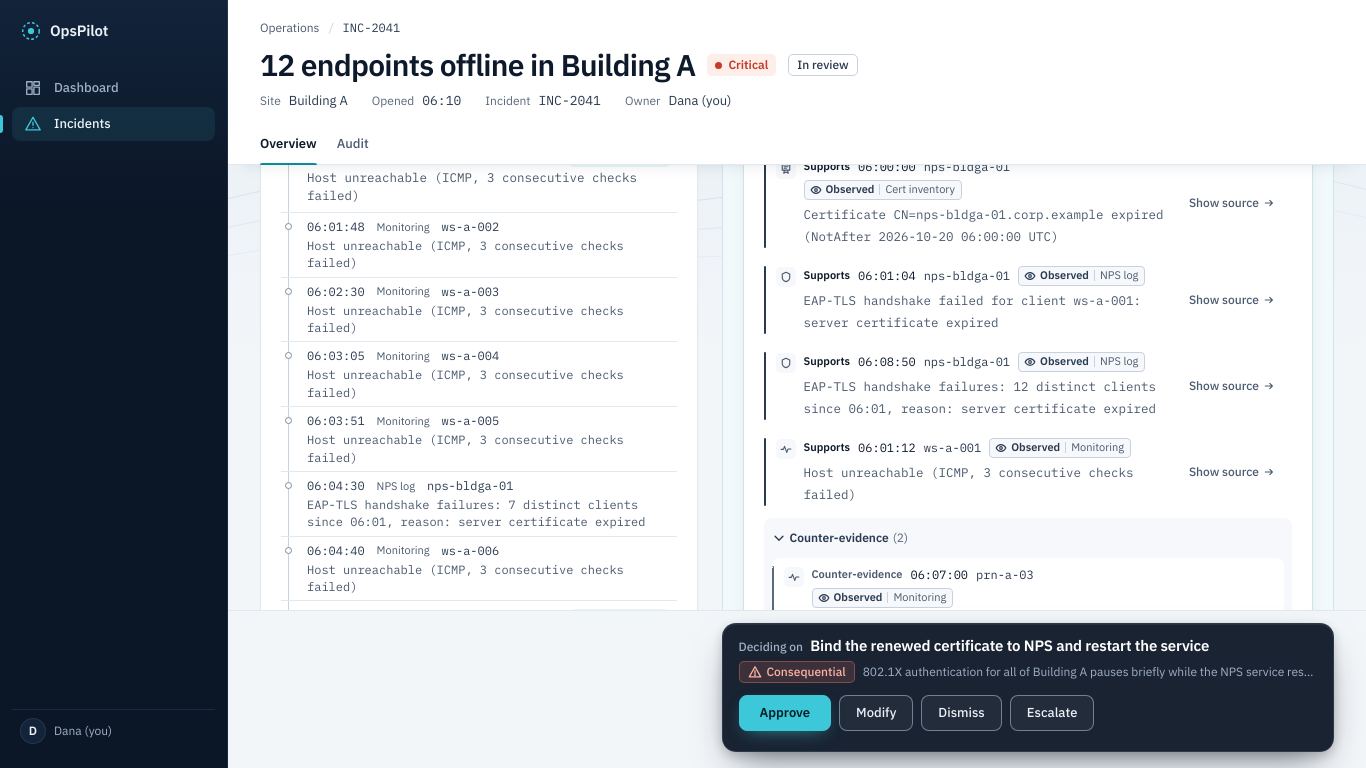
Test case: Incident Detail: trace › Show source moves focus to the event; Back to evidence returns it to the evidence item
The width and height of the screenshot is (1366, 768).
(page scrolled)
Click the button with aria-label "Show source: 06:08:50, nps-bldga-01". click: (1232, 386)
box: [1180,373,1284,399]
(page scrolled)
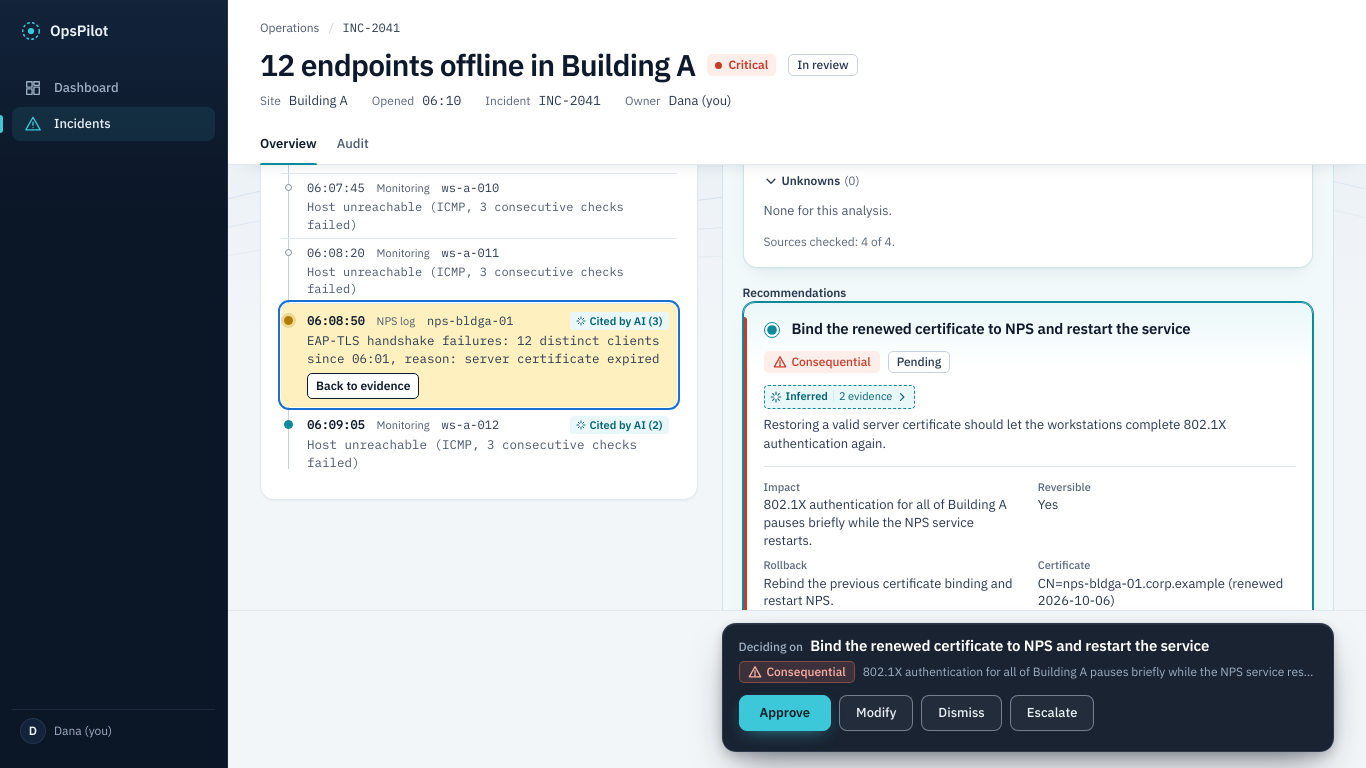
Expected: the list item that starts with "NPS log" has attribute data-active, [281,303,676,407]
Click the button "Back to evidence". click: (363, 386)
box: [307,372,419,398]
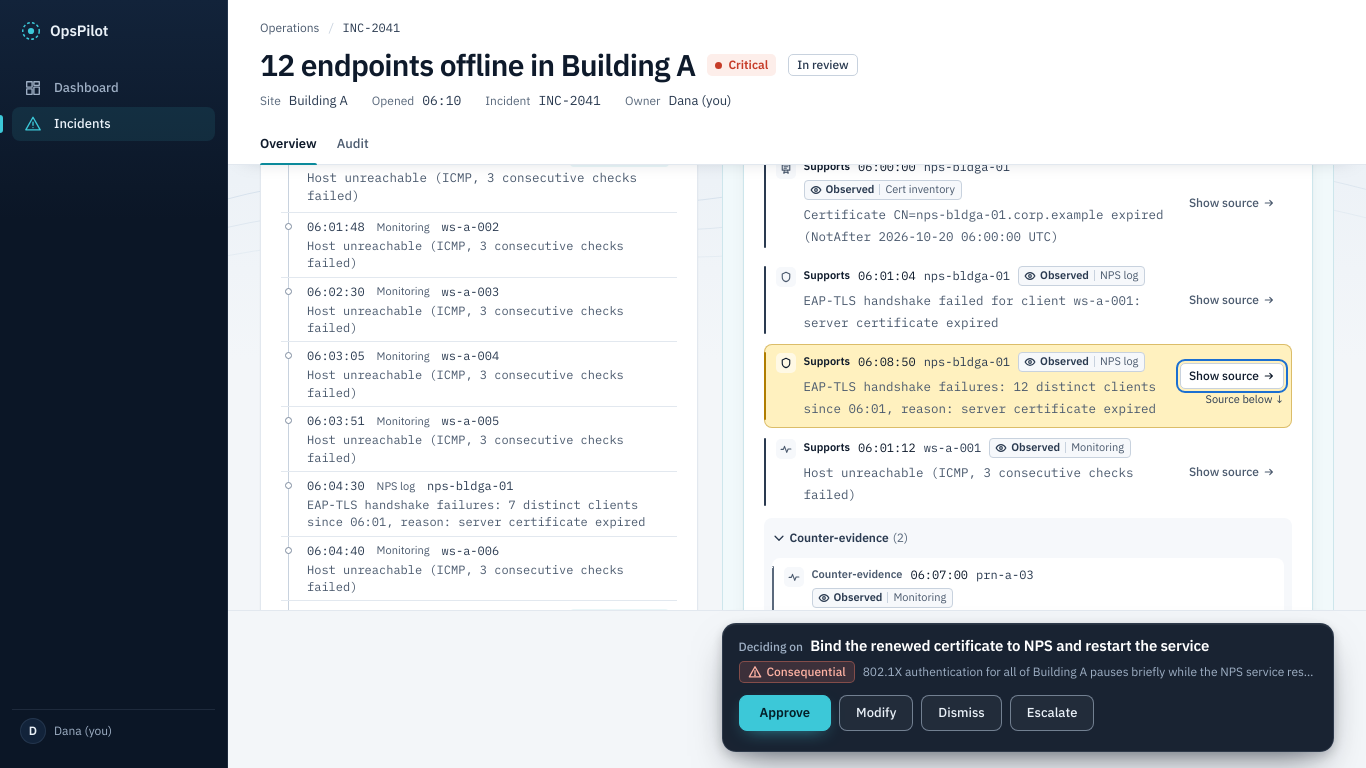
Expected: the button "Back to evidence" is gone
